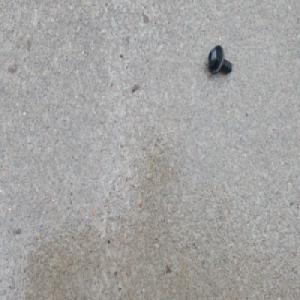BoltWasher: (206, 44, 232, 76)
